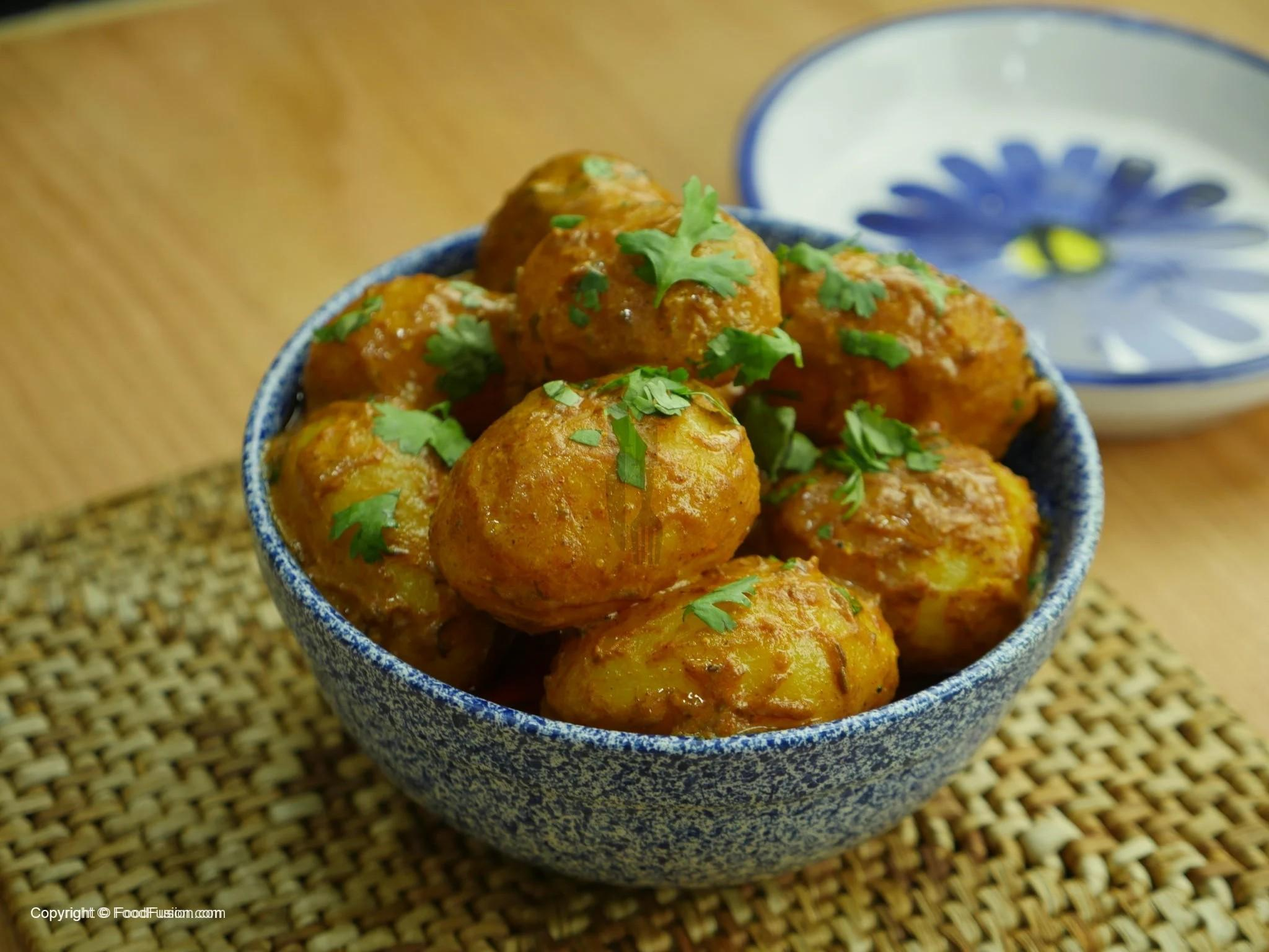DumAloo: (271, 145, 1063, 727)
